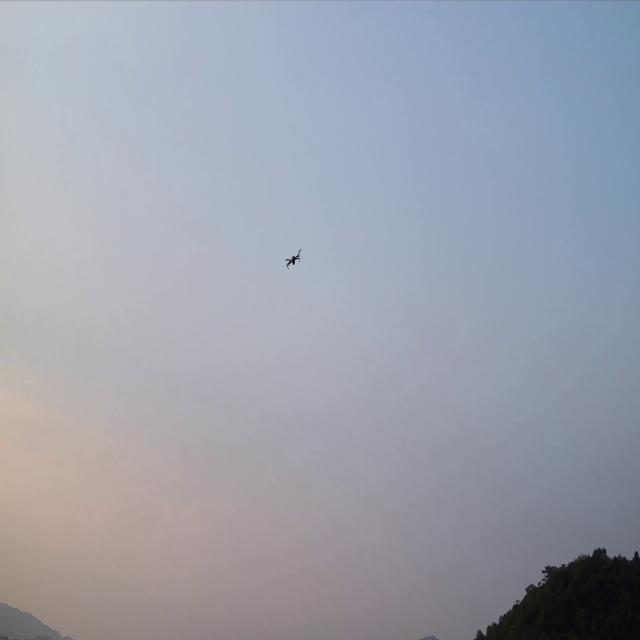UAV: (285, 246, 302, 271)
